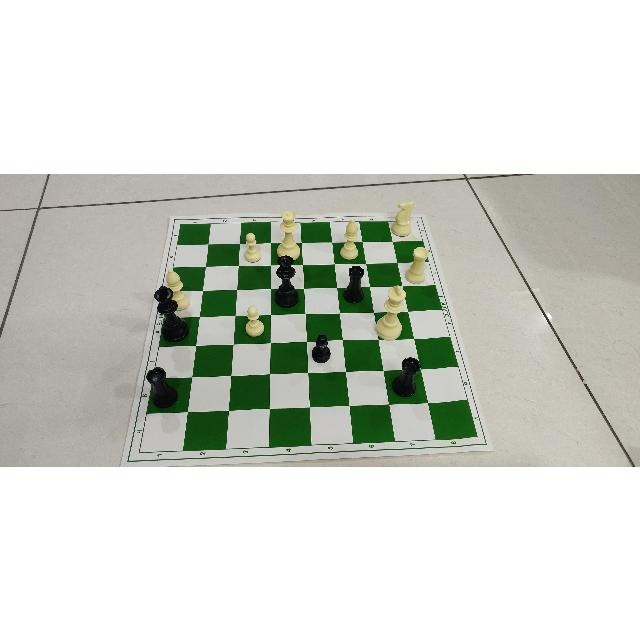black-king: (152, 285, 190, 343)
black-pawn: (310, 330, 331, 366)
black-queen: (271, 252, 303, 308)
black-rook: (143, 366, 180, 408), (392, 358, 422, 396), (342, 264, 366, 304)
white-bishop: (162, 267, 191, 310), (339, 218, 361, 260)
white-king: (374, 282, 407, 340)
white-knight: (390, 202, 414, 238)
white-pawn: (242, 302, 266, 338), (240, 230, 263, 263)
white-queen: (274, 209, 303, 259)
white-rook: (403, 246, 428, 282)
